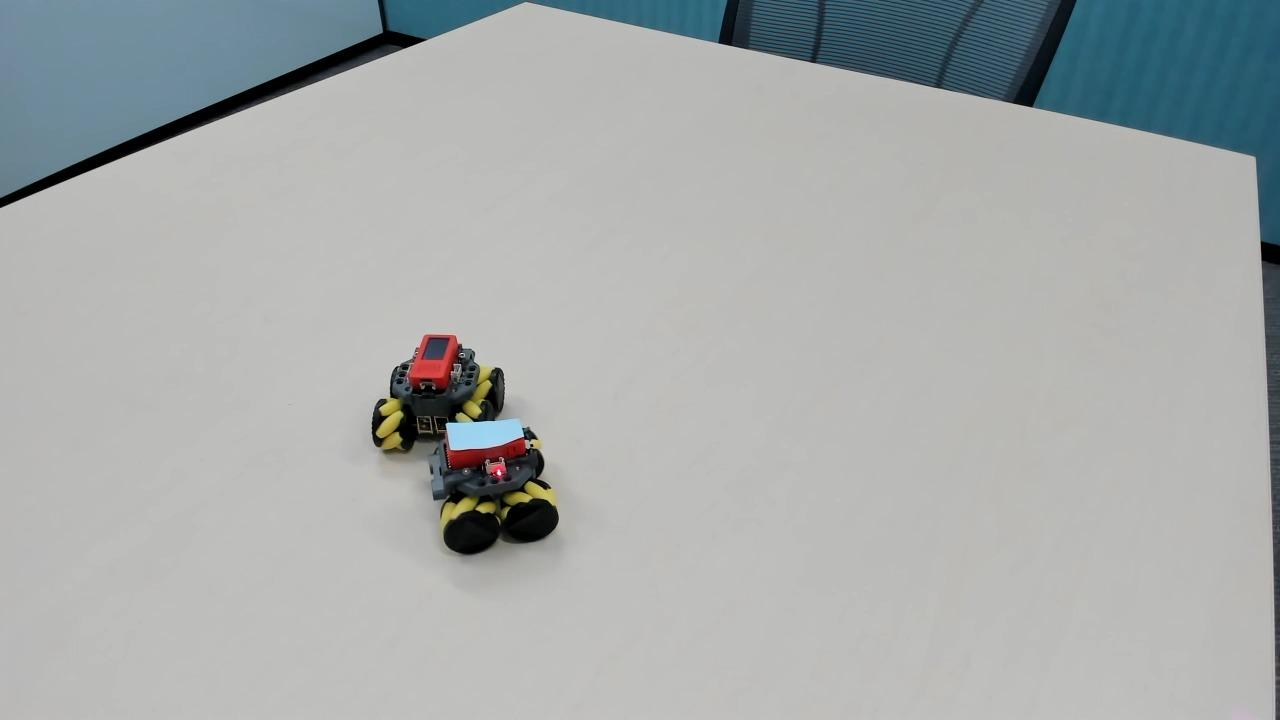B-Robot: (425, 415, 559, 562)
R-Robot: (355, 325, 516, 422)
